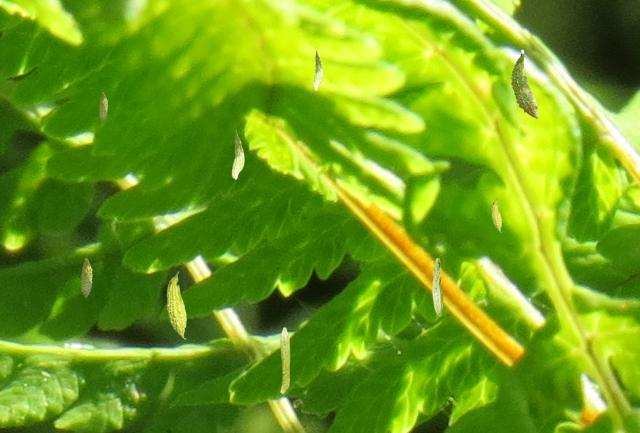ampalaya: (510, 49, 539, 119), (166, 271, 186, 340), (280, 327, 290, 394), (231, 129, 244, 180), (432, 257, 443, 316), (80, 257, 93, 298), (312, 49, 323, 91), (491, 197, 502, 233), (98, 91, 108, 123)
